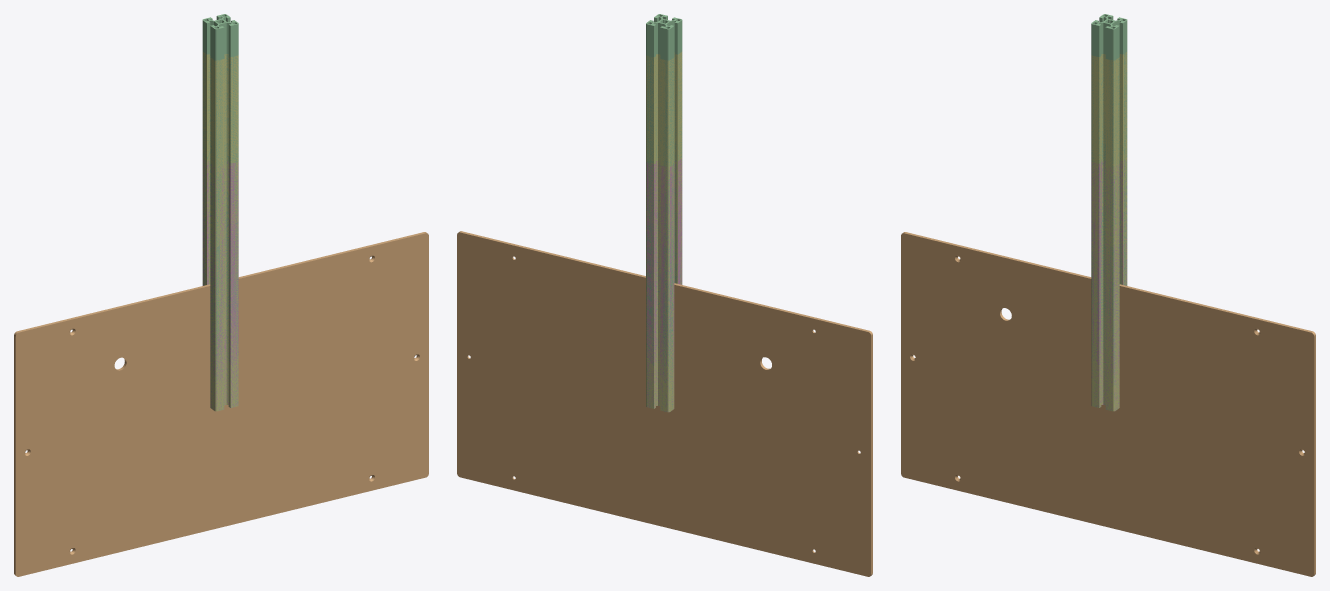
The model's file is case-06_gpt54mini.glb.
3 views of the same model, side by side, from view 1: azimuth 30°, elevation 25°; view 2: azimuth 150°, elevation 25°; view 3: azimuth 330°, elevation 25° (orthographic).
Visible parts, largest first — view 1: c00003, c00001, c00004, c00002; view 2: c00003, c00001, c00004, c00002; view 3: c00003, c00001, c00004, c00002.
Part boxes in pixels (<box>): c00003: <box>14,232,428,576</box>; c00001: <box>202,52,238,411</box>; c00004: <box>202,14,238,409</box>; c00002: <box>202,160,238,410</box>; c00003: <box>457,231,872,576</box>; c00001: <box>646,52,682,412</box>; c00004: <box>646,14,682,411</box>; c00002: <box>646,159,682,411</box>; c00003: <box>901,232,1315,576</box>; c00001: <box>1091,52,1127,411</box>; c00004: <box>1091,14,1127,410</box>; c00002: <box>1091,160,1127,410</box>.
Bounding box in the file's own units: 690 × 805 × 40.
